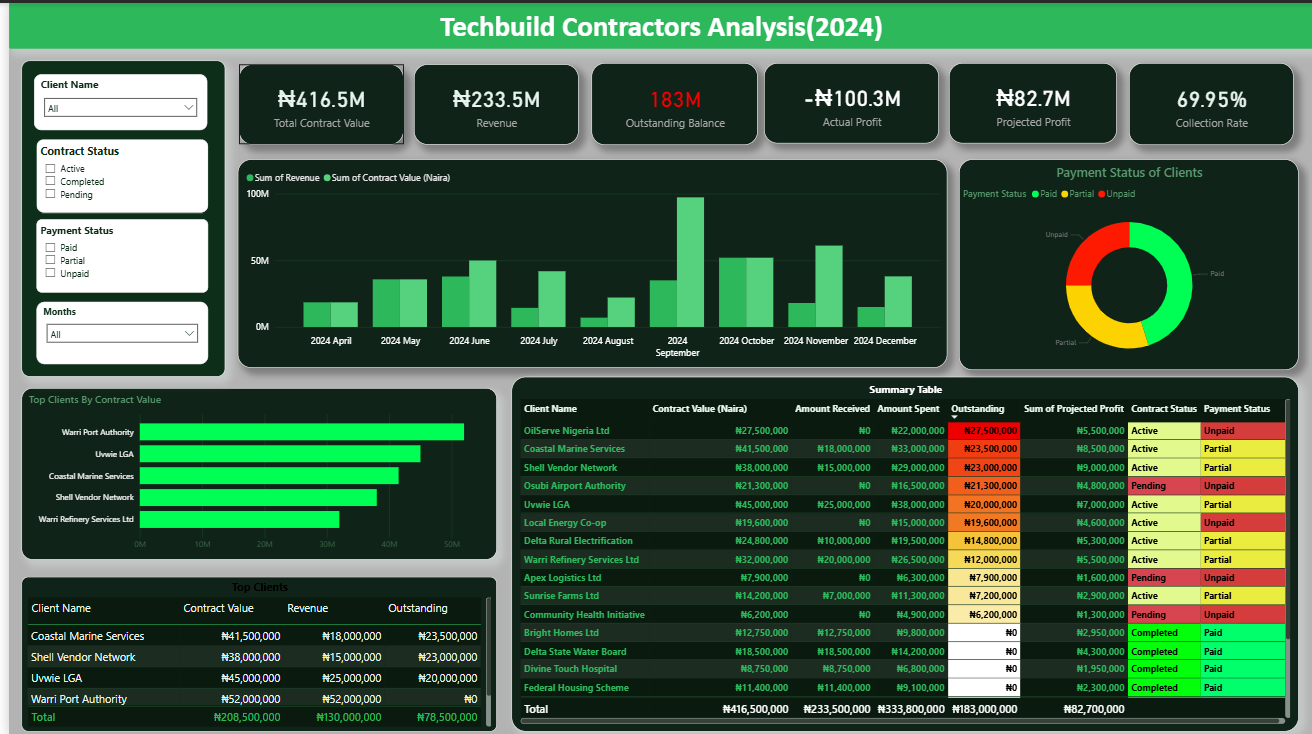

This screenshot's page, from the dashboard's own definition file:
{"tool":"powerbi","page":{"name":"Page 1","canvas":[1920,1080],"ordinal":0},"visuals":[{"type":"card","fields":{"Values":["Sum(Contracts.Amount Received from Client)"]},"box":[596.5,90.4,242.1,118.4],"z":0},{"type":"card","fields":{"Values":["Sum(Contracts.Projected Profit)"]},"box":[1383.3,87.7,247.4,118.4],"z":1000},{"type":"card","fields":{"Values":["Sum(Contracts.Contract Value (Naira))"]},"box":[338.6,90.4,242.1,118.4],"z":2000},{"type":"clusteredColumnChart","fields":{"Category":["Contracts.End Date.Variation.Date Hierarchy.Year","Contracts.End Date.Variation.Date Hierarchy.Month"],"Y":["Sum(Contracts.Amount Received from Client)","Sum(Contracts.Contract Value (Naira))"]},"box":[337.5,230,1045,307.5],"z":3000},{"type":"donutChart","title":"Payment Status of Clients","fields":{"Category":["Contracts.Payment Status"],"Y":["CountNonNull(Contracts.Client Name)"]},"box":[1399.1,229.8,500,310.5],"z":4000},{"type":"tableEx","title":"Summary Table","fields":{"Values":["Contracts.Client Name","Sum(Contracts.Contract Value (Naira))","Sum(Contracts.Amount Received from Client)","Sum(Contracts.Amount Spent on Delivery)","Sum(Contracts.Outstanding Balance)","Sum(Contracts.Projected Profit)","Contracts.Contract Status","Contracts.Payment Status"]},"box":[739.9,550.3,1159.5,522.7],"z":5000},{"type":"textbox","box":[0,0,1920,67.5],"z":6000},{"type":"barChart","title":"Top Clients By Contract Value","fields":{"Category":["Contracts.Client Name"],"Y":["Sum(Contracts.Contract Value (Naira))"]},"box":[18.4,561.4,699.4,250.3],"z":7000},{"type":"card","fields":{"Values":["Sum(Contracts.Outstanding Balance)"]},"box":[857,87.7,244.7,121.1],"z":8000},{"type":"card","fields":{"Values":["Contracts.Collection Rate"]},"box":[1649.1,87.7,242.1,121.1],"z":9000},{"type":"tableEx","title":"Top Clients","fields":{"Values":["Contracts.Client Name","Sum(Contracts.Contract Value (Naira))","Sum(Contracts.Revenue)","Sum(Contracts.Outstanding Balance)"]},"box":[18.4,831.9,699.4,241.1],"z":10000},{"type":"card","fields":{"Values":["Sum(Contracts.Actual Profit)"]},"box":[1112.3,87.7,257.9,118.4],"z":11000},{"type":"textbox","box":[17.5,85.1,300,465.8],"z":13000},{"type":"slicer","title":"Client Name","fields":{"Values":["Contracts.Client Name"]},"box":[37.5,105.5,255,82.5],"z":14000},{"type":"slicer","title":"Contract Status","fields":{"Values":["Contracts.Contract Status"]},"box":[41.2,200.9,252.6,107.9],"z":15000},{"type":"slicer","title":"Payment Status","fields":{"Values":["Contracts.Payment Status"]},"box":[41.2,319.3,252.6,107.9],"z":16000},{"type":"slicer","title":"Months","fields":{"Values":["Contracts.End Date.Variation.Date Hierarchy.Month"]},"box":[41.2,440.4,252.6,92.1],"z":17000}]}

Visuals, with their boxes in screenshot pixels (x1, y1, x2, y2), scaled from the page's 1920x1080 canvas onto the 1312x734 screenshot:
card - Sum(Contracts.Amount Received from Client): rect(408, 61, 573, 142)
card - Sum(Contracts.Projected Profit): rect(945, 60, 1114, 140)
card - Sum(Contracts.Contract Value (Naira)): rect(231, 61, 397, 142)
clusteredColumnChart - Contracts.End Date.Variation.Date Hierarchy.Year x Contracts.End Date.Variation.Date Hierarchy.Month: rect(231, 156, 945, 365)
"Payment Status of Clients" donutChart: rect(956, 156, 1298, 367)
"Summary Table" tableEx: rect(506, 374, 1298, 729)
textbox: rect(0, 0, 1311, 46)
"Top Clients By Contract Value" barChart: rect(13, 382, 490, 552)
card - Sum(Contracts.Outstanding Balance): rect(586, 60, 753, 142)
card - Contracts.Collection Rate: rect(1127, 60, 1292, 142)
"Top Clients" tableEx: rect(13, 565, 490, 729)
card - Sum(Contracts.Actual Profit): rect(760, 60, 936, 140)
textbox: rect(12, 58, 217, 374)
"Client Name" slicer: rect(26, 72, 200, 128)
"Contract Status" slicer: rect(28, 137, 201, 210)
"Payment Status" slicer: rect(28, 217, 201, 290)
"Months" slicer: rect(28, 299, 201, 362)
